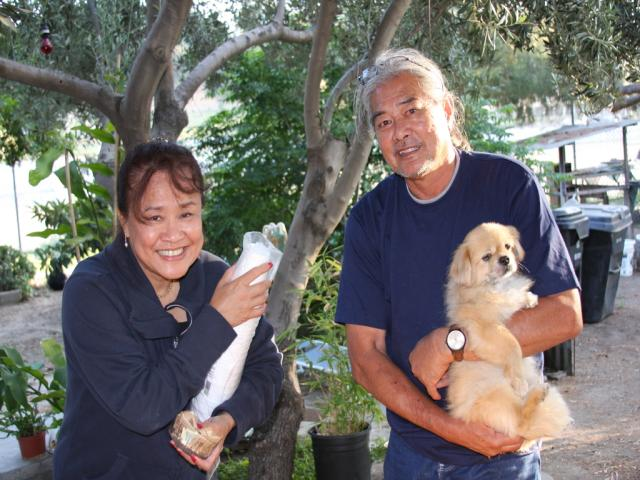Dog: (442, 218, 574, 440)
